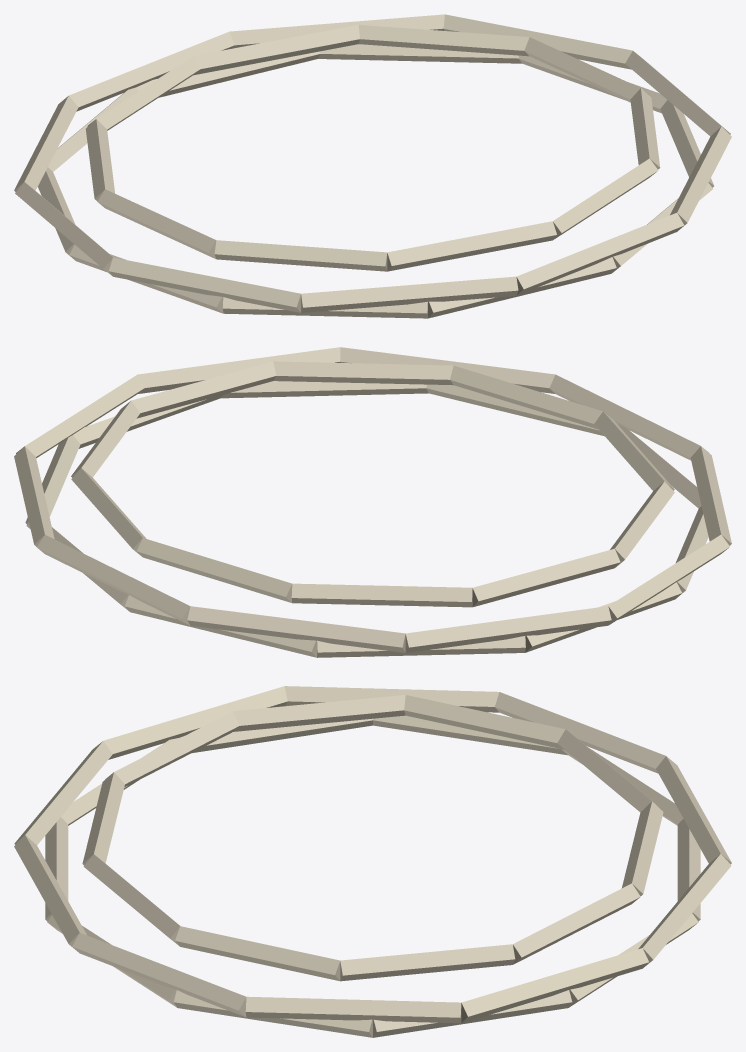
Rendered from string_36.glb.
3 renders of one model, top to bottom at view 1: azimuth 30°, elevation 25°; view 2: azimuth 150°, elevation 25°; view 3: azimuth 270°, elevation 25°, orthographic. The views are drawn at different scales.
Visible parts, largest first — view 1: block_loop1-1, block_loop1-2, block_loop2-0, block_loop2-9, block_loop2-5, block_loop1-0, block_loop2-4, block_loop1-5, block_loop1-7, block_loop0-8, block_loop1-6, block_loop2-1 (+18 smaller); view 2: block_loop1-5, block_loop1-4, block_loop2-3, block_loop2-8, block_loop2-4, block_loop1-6, block_loop2-9, block_loop2-2, block_loop2-7, block_loop1-1, block_loop1-9, block_loop0-1 (+18 smaller); view 3: block_loop1-8, block_loop1-7, block_loop2-6, block_loop1-9, block_loop2-1, block_loop2-7, block_loop2-2, block_loop1-2, block_loop1-4, block_loop1-3, block_loop2-5, block_loop2-0 (+18 smaller).
Boxes of the visible parts, <box> form: block_loop1-1: <box>301,276,518,312</box>; block_loop1-2: <box>109,257,300,312</box>; block_loop2-0: <box>214,240,387,271</box>; block_loop2-9: <box>387,221,556,271</box>; block_loop2-5: <box>358,25,529,56</box>; block_loop1-0: <box>516,213,684,295</box>; block_loop2-4: <box>193,25,359,75</box>; block_loop1-5: <box>69,31,234,111</box>; block_loop1-7: <box>443,14,632,69</box>; block_loop0-8: <box>318,44,521,63</box>; block_loop1-6: <box>230,14,444,48</box>; block_loop2-1: <box>97,189,216,258</box>; block_loop1-5: <box>187,606,405,652</box>; block_loop1-4: <box>405,606,611,652</box>; block_loop2-3: <box>291,583,472,607</box>; block_loop2-8: <box>273,361,453,385</box>; block_loop2-4: <box>136,538,292,602</box>; block_loop1-6: <box>37,535,190,625</box>; block_loop2-9: <box>450,365,602,429</box>; block_loop2-2: <box>472,548,620,606</box>; block_loop2-7: <box>131,361,276,418</box>; block_loop1-1: <box>549,374,708,460</box>; block_loop1-9: <box>137,347,340,393</box>; block_loop0-1: <box>221,381,428,398</box>; block_loop1-8: <box>245,996,461,1023</box>; block_loop1-7: <box>461,948,648,1023</box>; block_loop2-6: <box>340,944,515,981</box>; block_loop1-9: <box>72,933,246,1017</box>; block_loop2-1: <box>233,695,405,731</box>; block_loop2-7: <box>175,926,340,980</box>; block_loop2-2: <box>404,695,565,749</box>; block_loop1-2: <box>103,686,287,759</box>; block_loop1-4: <box>495,692,665,773</box>; block_loop1-3: <box>284,686,499,712</box>; block_loop2-5: <box>513,883,640,964</box>; block_loop2-0: <box>106,711,239,787</box>.
Size of the model in its own units: 0.1009 by 0.0078 by 0.0939.
Materials: 1 (1 with a texture image).
